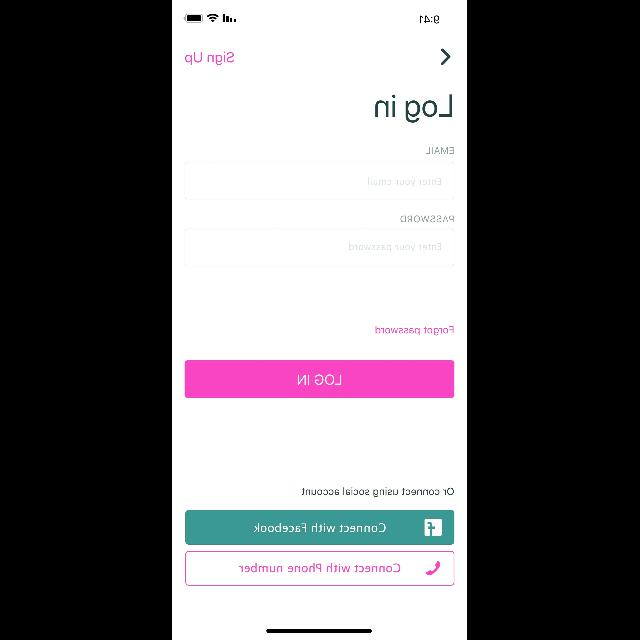icon: (442, 49, 451, 66)
input: (185, 162, 455, 200), (185, 229, 455, 267)
text: (376, 95, 452, 123), (302, 487, 454, 497), (350, 242, 442, 252), (376, 326, 454, 336), (186, 52, 234, 66), (368, 178, 442, 186), (402, 215, 454, 222), (427, 146, 455, 154)
textbutton: (185, 360, 455, 398), (186, 550, 454, 586), (186, 510, 454, 544)
uppertaskbar: (184, 14, 440, 24)
